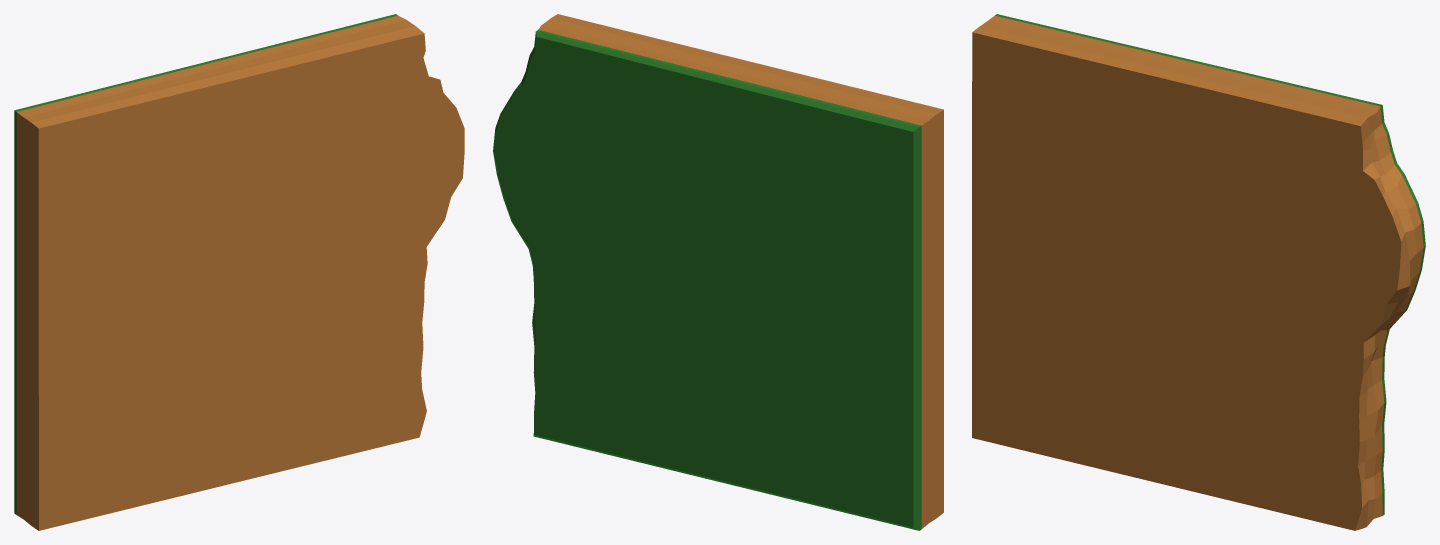
Rendered from side2v1.fbx.
3 views of the same model, side by side, from view 1: azimuth 30°, elevation 25°; view 2: azimuth 150°, elevation 25°; view 3: azimuth 330°, elevation 25° (orthographic).
Parts seen in each view (by area): view 1: side2v1; view 2: side2v1; view 3: side2v1.
Boxes of the visible parts, bbox=[...] form: side2v1: bbox=[14, 14, 464, 530]; side2v1: bbox=[493, 14, 943, 530]; side2v1: bbox=[972, 14, 1425, 530].
Size of the model in its own units: 2221 by 2016 by 253.
